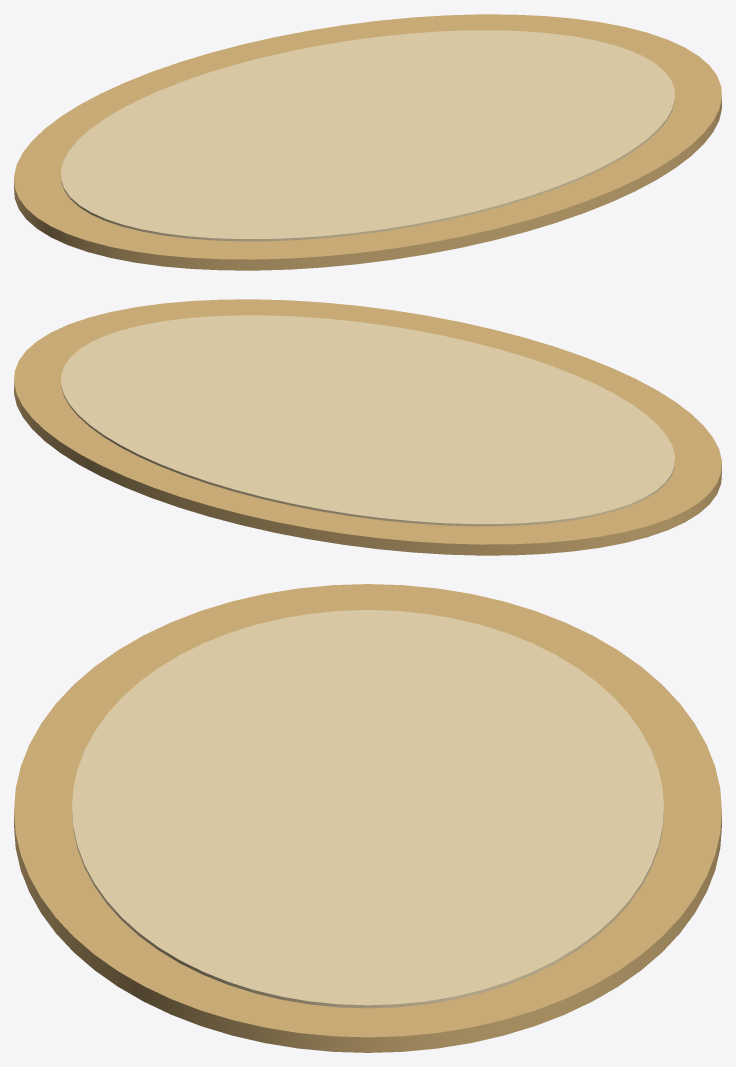
The model's file is rug-meadow.glb.
The picture shows the model from 3 angles, top to bottom: view 1: azimuth 30°, elevation 25°; view 2: azimuth 150°, elevation 25°; view 3: azimuth 270°, elevation 25°; orthographic projection. The views are drawn at different scales.
Visible parts, largest first — view 1: accent, primary; view 2: accent, primary; view 3: accent, primary.
Boxes of the visible parts, box(x1,y1,x2,y2) form: accent: box(61, 30, 674, 241); primary: box(14, 14, 721, 270); accent: box(61, 315, 674, 526); primary: box(14, 299, 721, 555); accent: box(72, 610, 663, 1008); primary: box(14, 584, 721, 1052).
Bounding box in the file's own units: 2.5 × 0.048 × 1.65.
